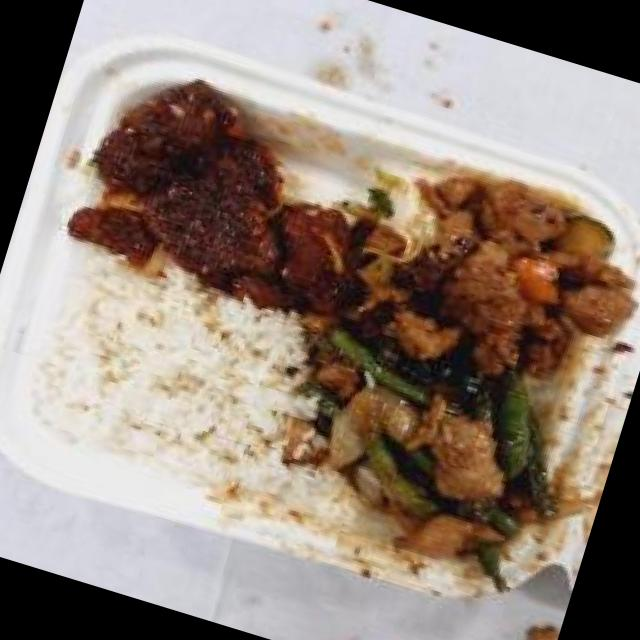Beijing Beef: (54, 58, 382, 332)
Kung Pao Chicken: (333, 136, 640, 428)
String Bean Chicken Breast: (288, 338, 592, 582)
White Steamed Rice: (20, 253, 328, 514)
